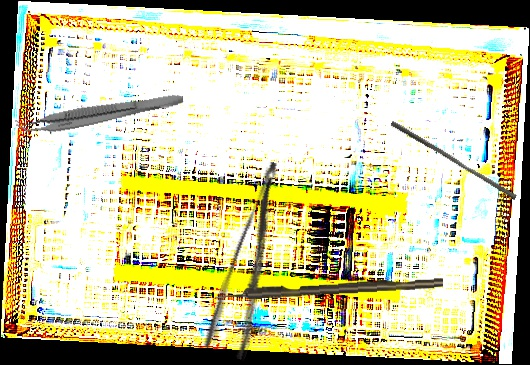Dressing Forceps: (199, 159, 312, 362)
Hook Surgical: (214, 277, 444, 301)
Pusher: (387, 120, 520, 201)
Tissue Forceps: (14, 83, 185, 141)
